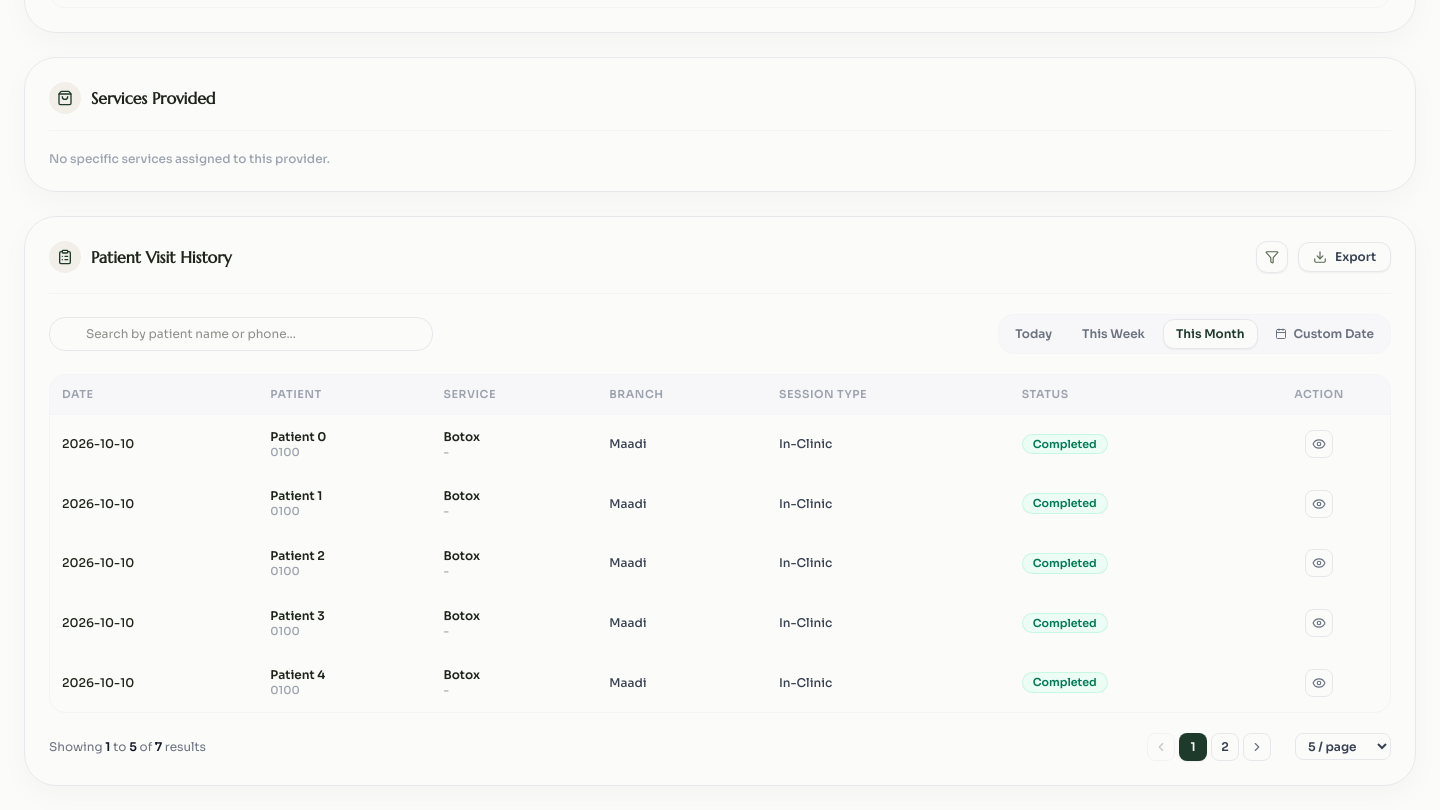
Test: pagination › page 2 shows the remaining rows
The image size is (1440, 810).
(page scrolled)
Click the button "2". click: point(1225, 747)
box: [1211,733,1239,761]
(page scrolled)
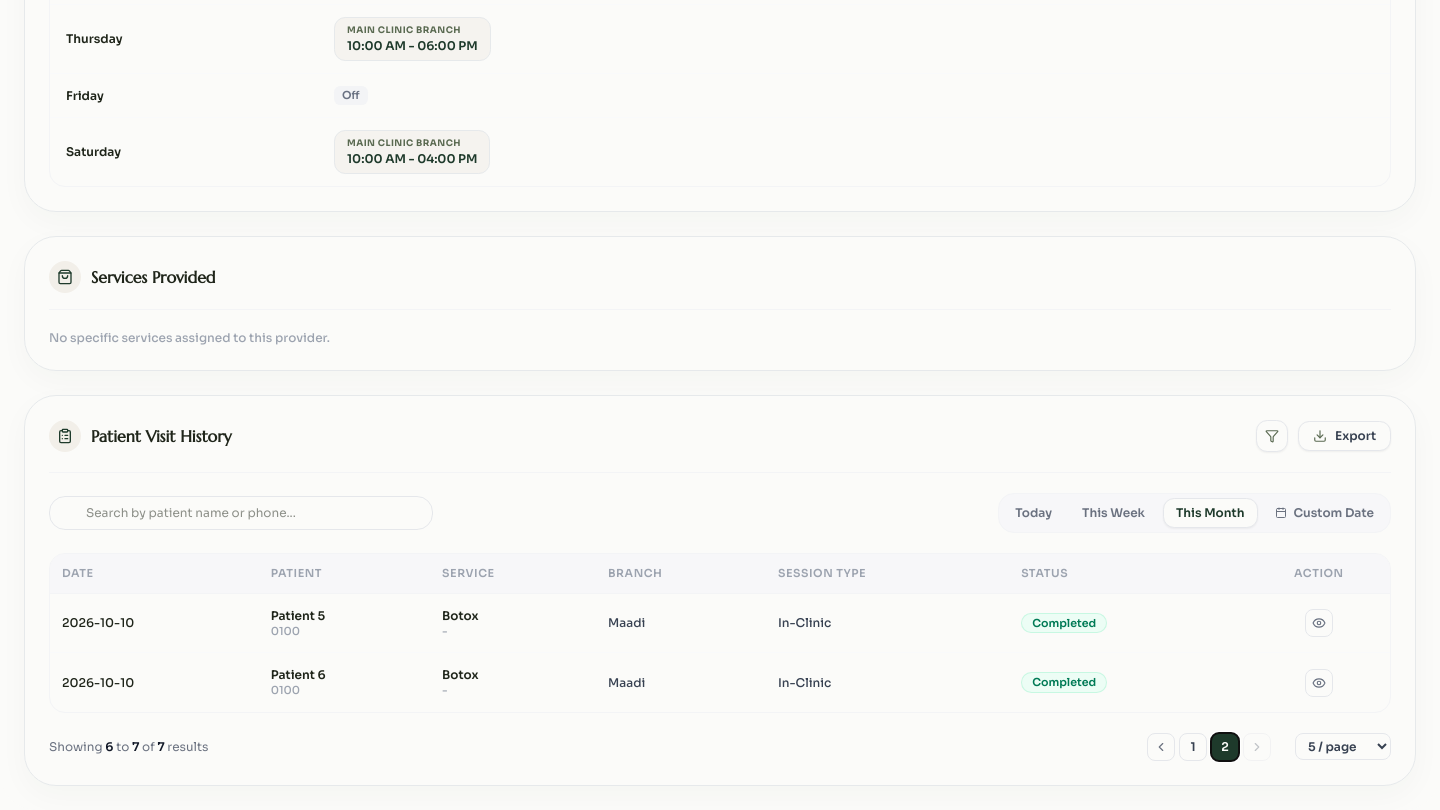
Expected: the text "Patient 5" is shown 2 times, [271,607,325,622]; [271,667,326,682]
